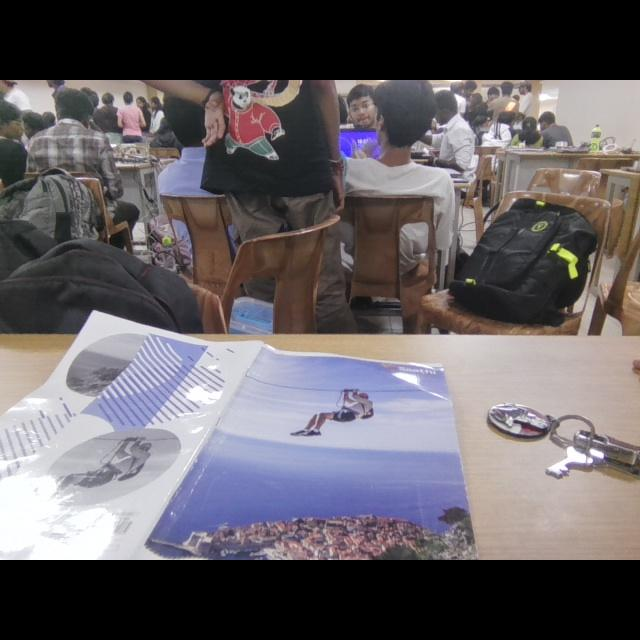keys: (474, 392, 638, 504)
